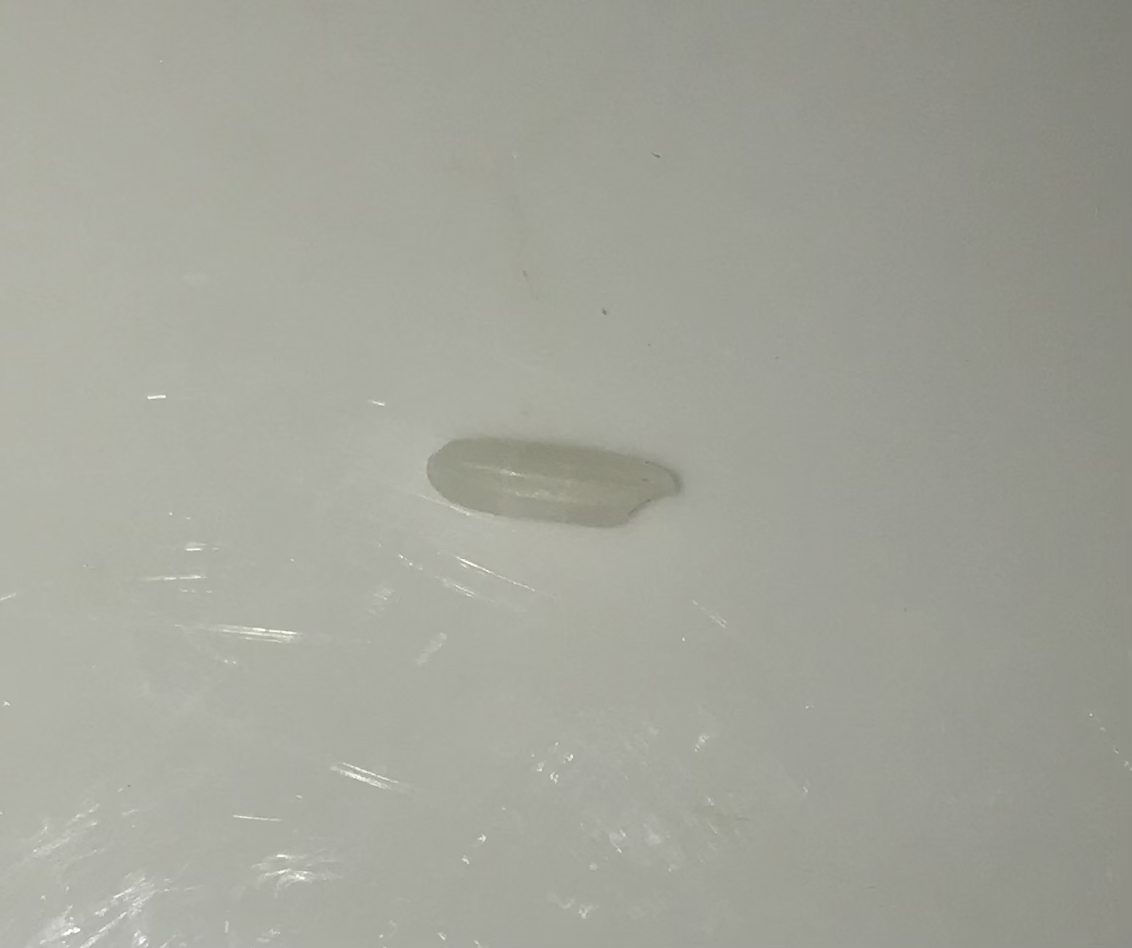Gao Lai Sua: (427, 416, 685, 549)
